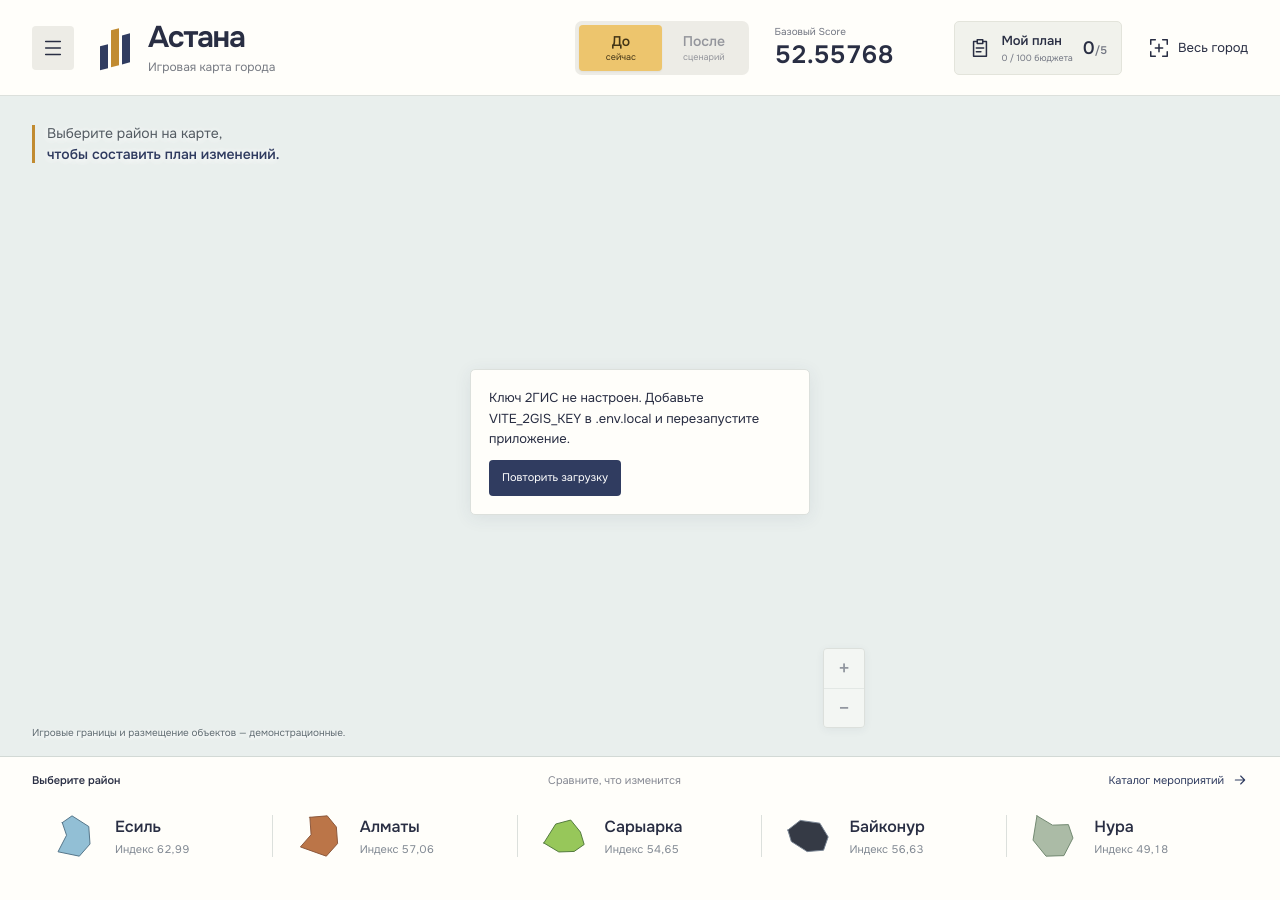
it: district and scenario planning without a working map › shows all 14 measures, applies lag in the preview, and adds and removes a district measure
Click the button "Нура Индекс 49,18": (1130, 836) [1011,800,1248,872]
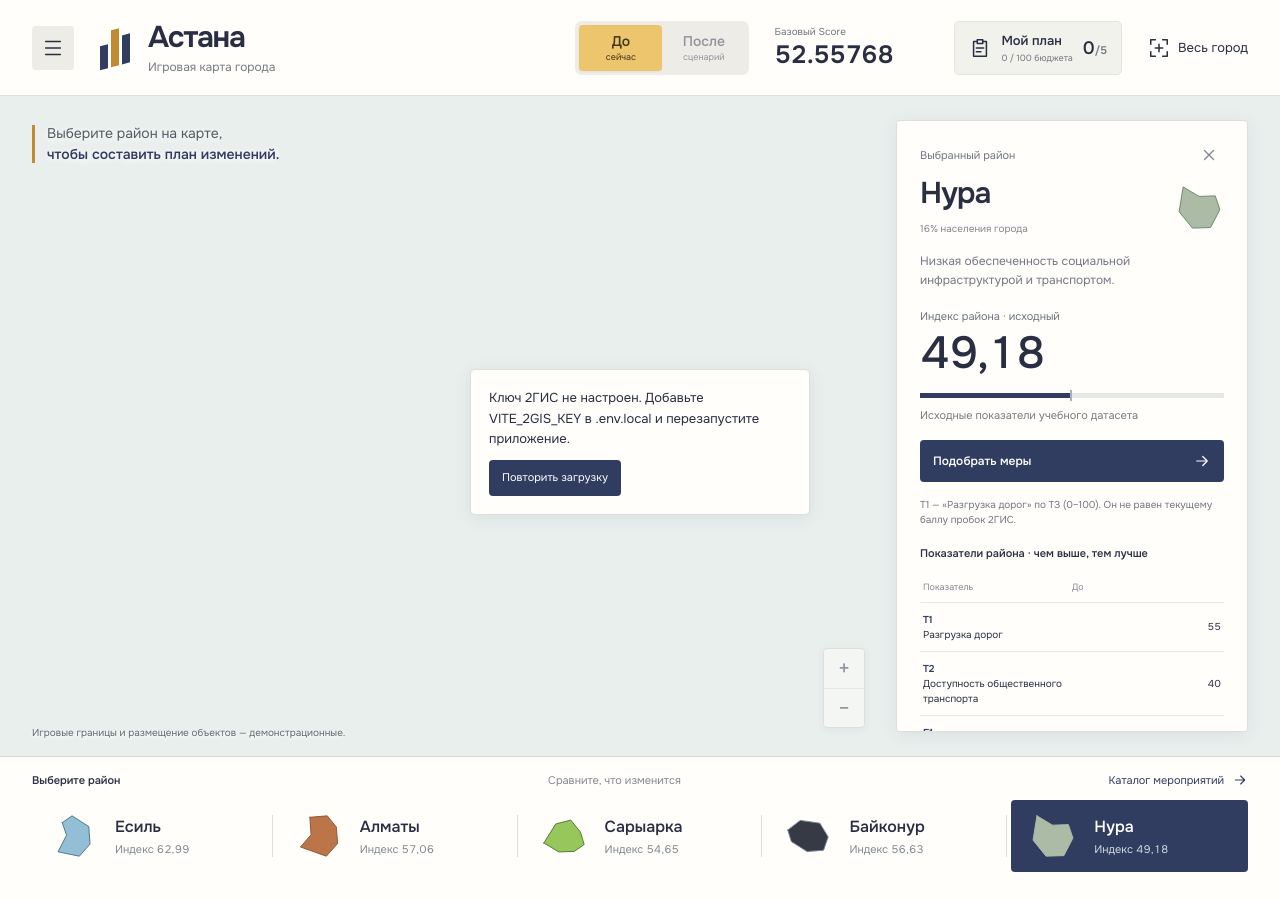
Click the button "Подобрать меры": (982, 461) [920,440,1224,482]
(page scrolled)
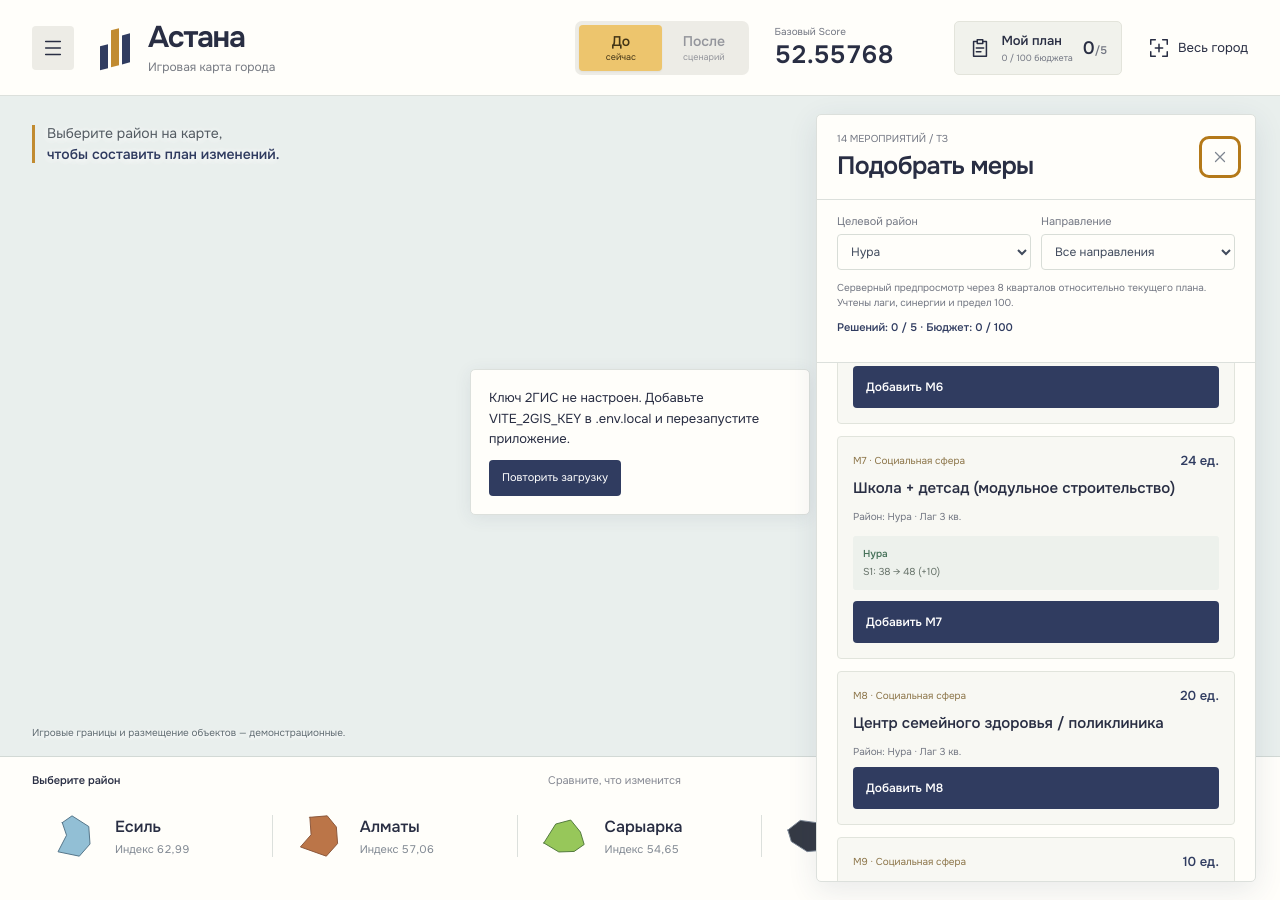
Result: the text "24 ед." is shown at [1181,452,1219,469]
Result: the text "Район: Нура · Лаг 3 кв." below "Школа + детсад (модульное строительство)" is shown at [853,510,961,523]
Result: the text "S1: 38 → 48 (+10)" is shown at [863,565,940,578]
Click the button "Добавить M7": (896, 622) [853,601,1219,643]
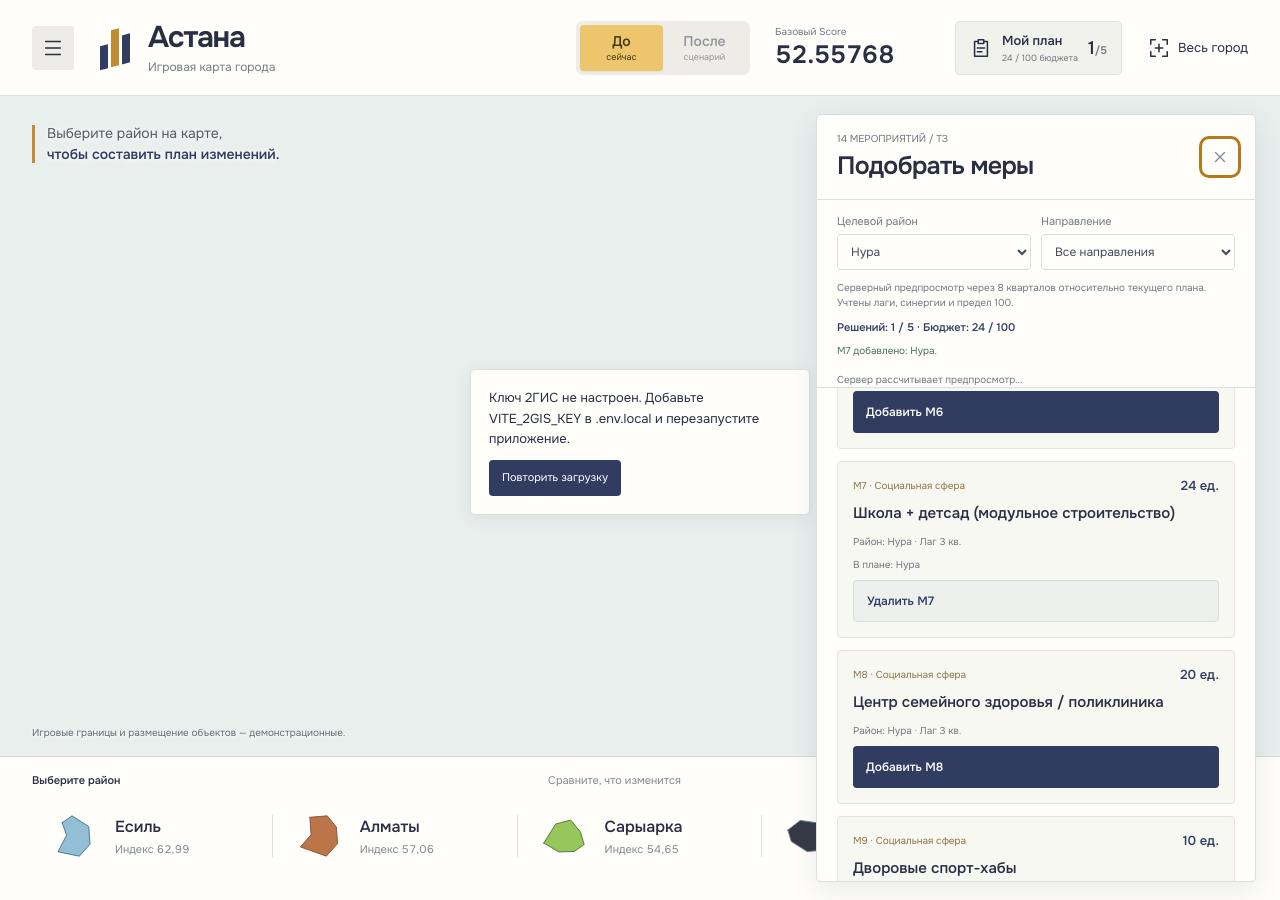
Expected: the button with aria-label "После — сценарий" is disabled, [663,24,746,70]
Result: the text "Решений: 1 / 5 · Бюджет: 24 / 100" is shown at [837,320,1015,334]
Result: the button "Добавить M7" is gone
Click the button "Удалить M7": (892, 601) [853,580,1219,622]
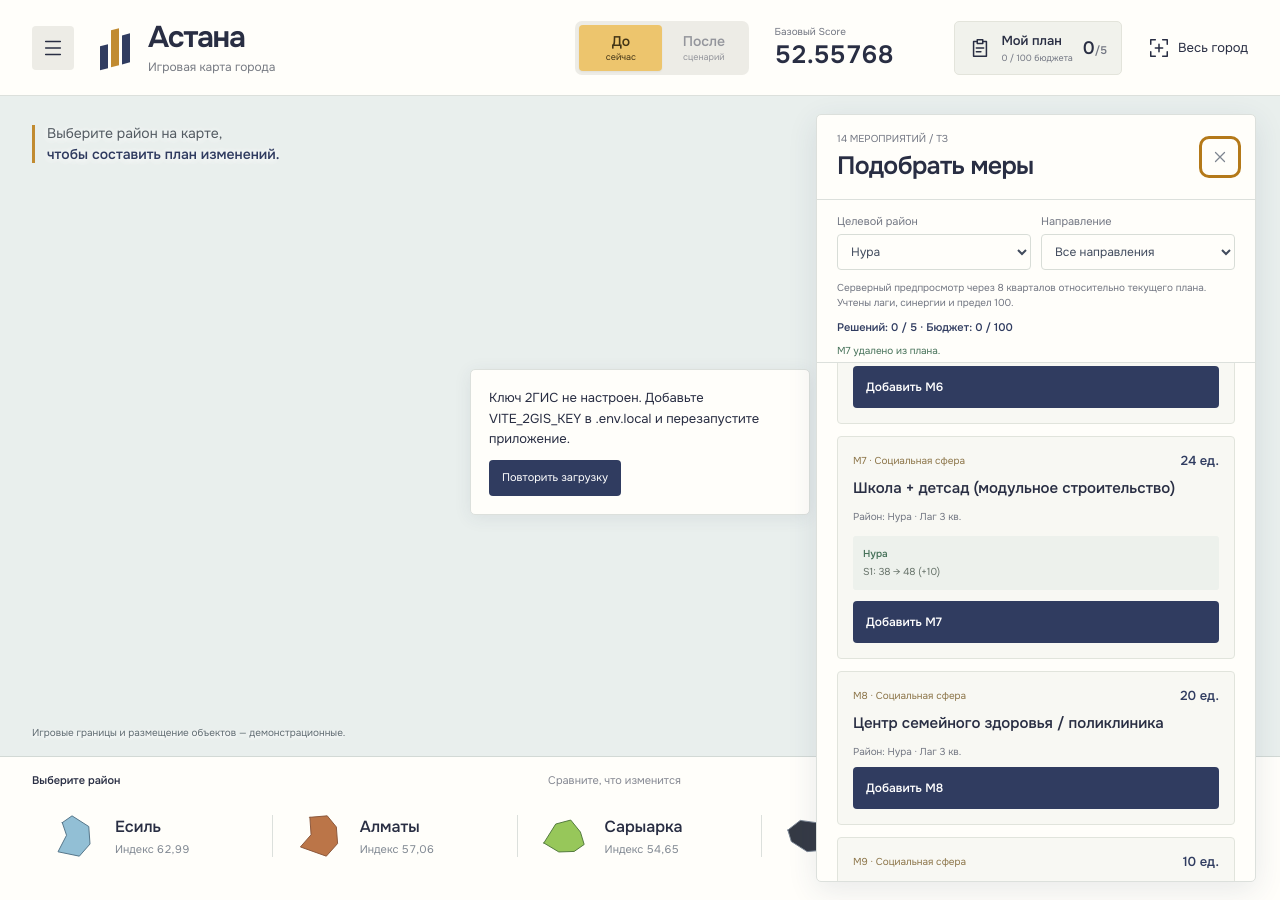
Result: the button "Добавить M7" is shown at [853,601,1219,643]
Result: the text "Решений: 0 / 5 · Бюджет: 0 / 100" is shown at [837,320,1013,334]
